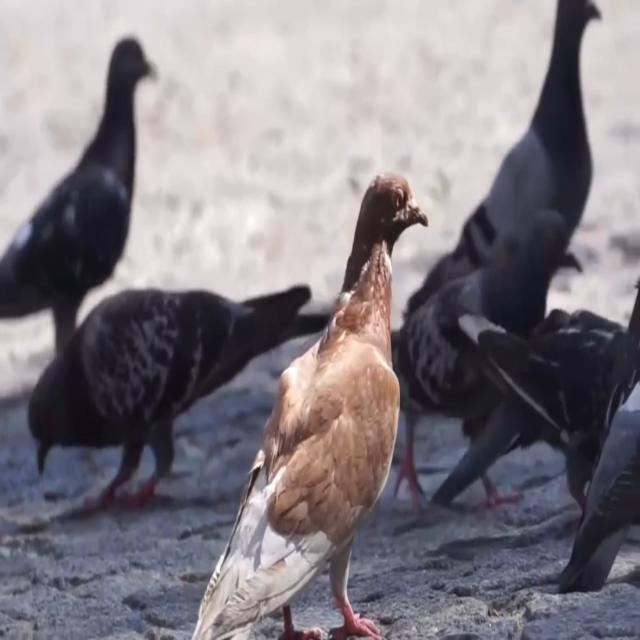bird: (186, 156, 438, 640), (353, 189, 640, 536), (396, 0, 640, 376), (18, 264, 330, 533), (0, 29, 172, 375), (446, 272, 640, 529), (551, 266, 640, 606)
